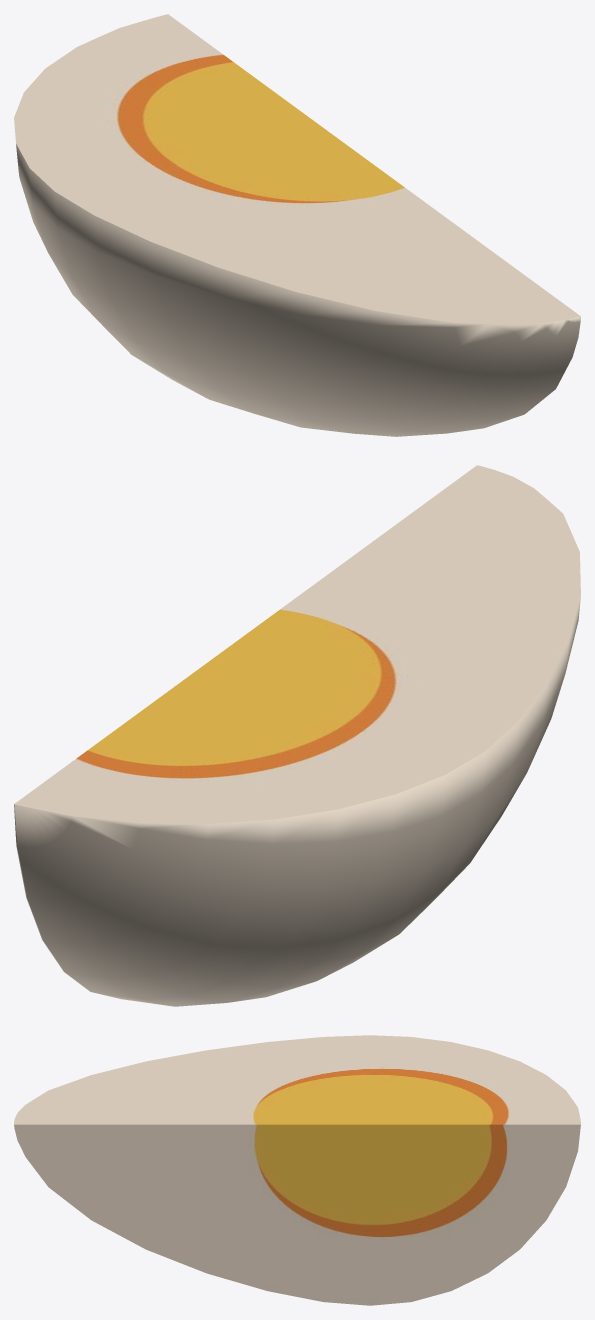
Rendered from egg slice 1.fbx.
3 views of the same model, one above another, from view 1: azimuth 30°, elevation 25°; view 2: azimuth 150°, elevation 25°; view 3: azimuth 270°, elevation 25° (orthographic). The views are drawn at different scales.
Parts seen in each view (by area): view 1: Sphere; view 2: Sphere; view 3: Sphere.
Part boxes in pixels (x1,y1,x2,y2): Sphere: (14,14,580,436); Sphere: (14,465,580,1006); Sphere: (14,1035,580,1305).
Size of the model in its own units: 186 by 175 by 498.
1 material, 1 textured.
